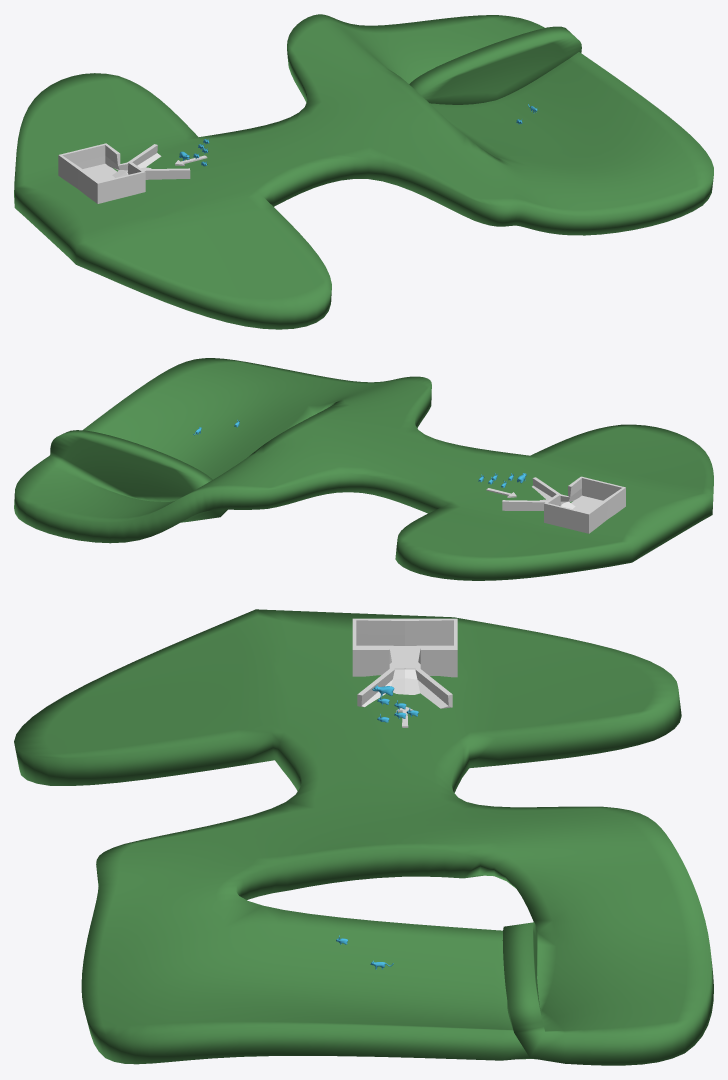
The model's file is animals.gltf.
3 views of the same model, one above another, from view 1: azimuth 30°, elevation 25°; view 2: azimuth 150°, elevation 25°; view 3: azimuth 270°, elevation 25° (orthographic). The views are drawn at different scales.
Parts seen in each view (by area): view 1: Level, Goal; view 2: Level, Goal; view 3: Level, Goal, PartyZone.
Part boxes in pixels (bbox=[...]): Level: bbox=[14, 14, 713, 329]; Goal: bbox=[58, 143, 207, 203]; Level: bbox=[14, 358, 713, 580]; Goal: bbox=[486, 476, 625, 533]; Level: bbox=[14, 609, 713, 1065]; Goal: bbox=[352, 618, 457, 727]; PartyZone: bbox=[356, 645, 453, 675].
Bounding box in the file's own units: 125 × 18.84 × 93.96.
